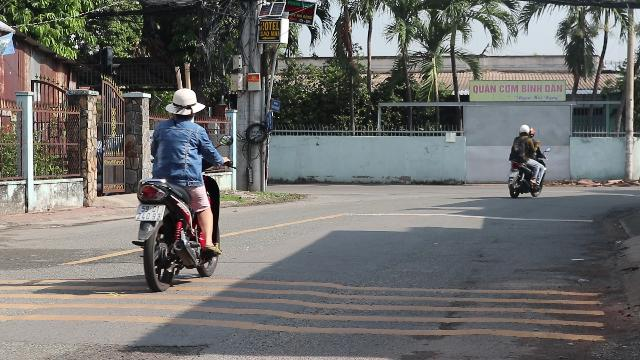licenseplate: (136, 205, 164, 221)
motorcyclist: (130, 85, 226, 288)
nohelmet: (166, 88, 207, 122)
